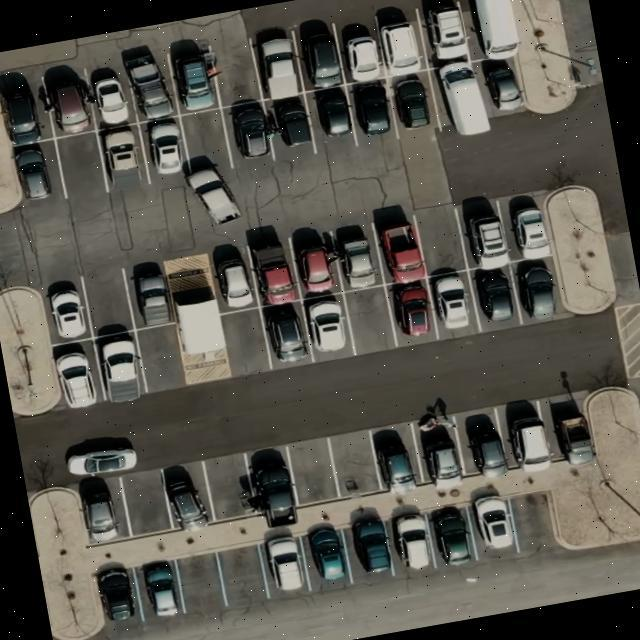space-empty: (207, 31, 262, 108), (203, 452, 258, 528), (414, 202, 468, 274), (80, 264, 134, 336), (55, 131, 108, 204), (326, 429, 382, 498), (285, 438, 339, 507), (344, 284, 396, 354), (118, 467, 170, 537), (180, 108, 232, 178), (506, 488, 558, 558), (134, 322, 187, 390), (174, 550, 227, 617), (218, 307, 270, 375), (215, 542, 267, 608)
space-occupied: (164, 255, 227, 363), (431, 57, 493, 137), (499, 398, 557, 477), (243, 445, 300, 522), (326, 218, 384, 292), (453, 406, 510, 481), (90, 329, 149, 401), (166, 42, 224, 115), (247, 24, 302, 100), (205, 242, 262, 314), (247, 231, 301, 307), (383, 506, 440, 578), (456, 197, 512, 270), (373, 5, 430, 76), (126, 49, 182, 121), (542, 389, 598, 461), (415, 0, 476, 66), (300, 292, 358, 361), (410, 414, 464, 488), (290, 20, 345, 92), (96, 123, 150, 196), (42, 66, 95, 140), (386, 68, 441, 139), (424, 500, 478, 572), (346, 78, 401, 148), (375, 210, 427, 284), (84, 60, 138, 131), (498, 190, 552, 261), (7, 139, 64, 206), (369, 422, 422, 494), (221, 100, 277, 168), (51, 338, 105, 408), (467, 492, 521, 562), (122, 260, 176, 330), (342, 514, 396, 584), (290, 229, 342, 301), (43, 274, 95, 346), (459, 0, 520, 61), (160, 460, 213, 530), (386, 278, 440, 346), (302, 524, 354, 594), (258, 300, 312, 367), (468, 265, 522, 332), (0, 74, 50, 146), (74, 474, 124, 546), (426, 269, 478, 338), (333, 15, 385, 84), (138, 115, 190, 183), (304, 84, 354, 154), (477, 54, 529, 120), (258, 531, 308, 599), (132, 558, 185, 622), (511, 258, 562, 324), (266, 94, 314, 156), (94, 566, 140, 626)
